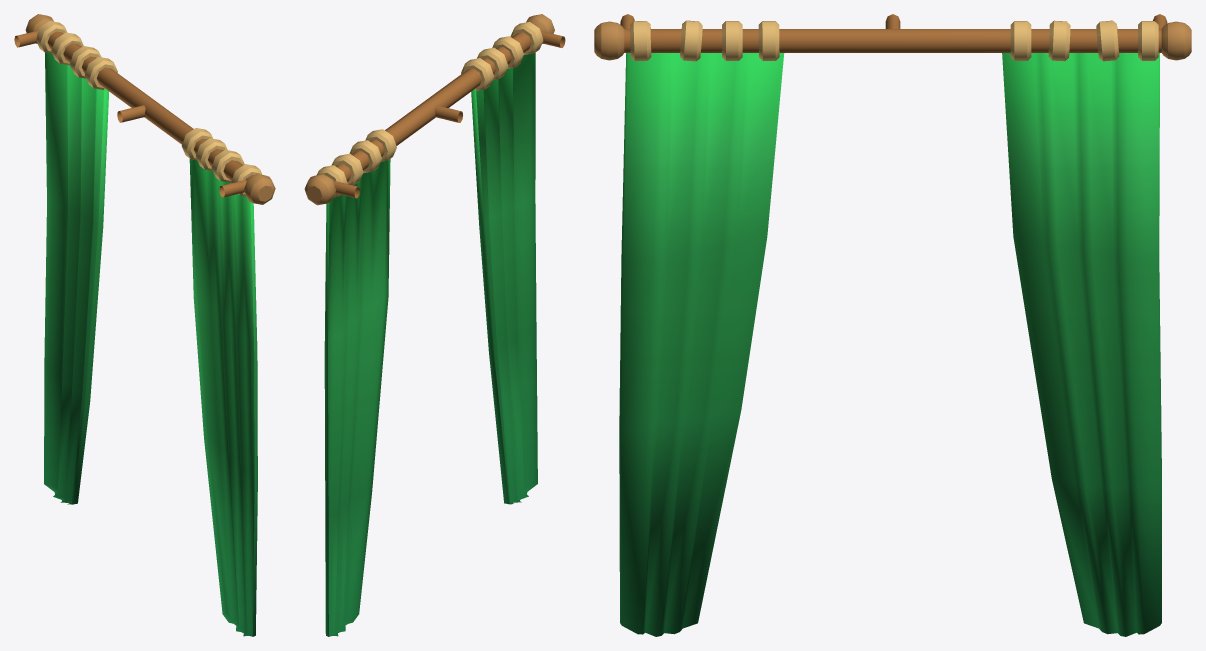
The model's file is Curtains_Long_1_C_G.glb.
3 renders of one model, left to right at view 1: azimuth 30°, elevation 25°; view 2: azimuth 150°, elevation 25°; view 3: azimuth 270°, elevation 25°, orthographic. The views are drawn at different scales.
Visible parts, largest first — view 1: Curtains_Long_1_C_G; view 2: Curtains_Long_1_C_G; view 3: Curtains_Long_1_C_G.
Boxes of the visible parts, left/top/right/bottom form: Curtains_Long_1_C_G: left=14, top=14, right=275, bottom=636; Curtains_Long_1_C_G: left=304, top=14, right=565, bottom=636; Curtains_Long_1_C_G: left=594, top=14, right=1191, bottom=636.
Bounding box in the file's own units: 0.2268 × 2.28 × 2.02.
Materials: 1 (1 with a texture image).
